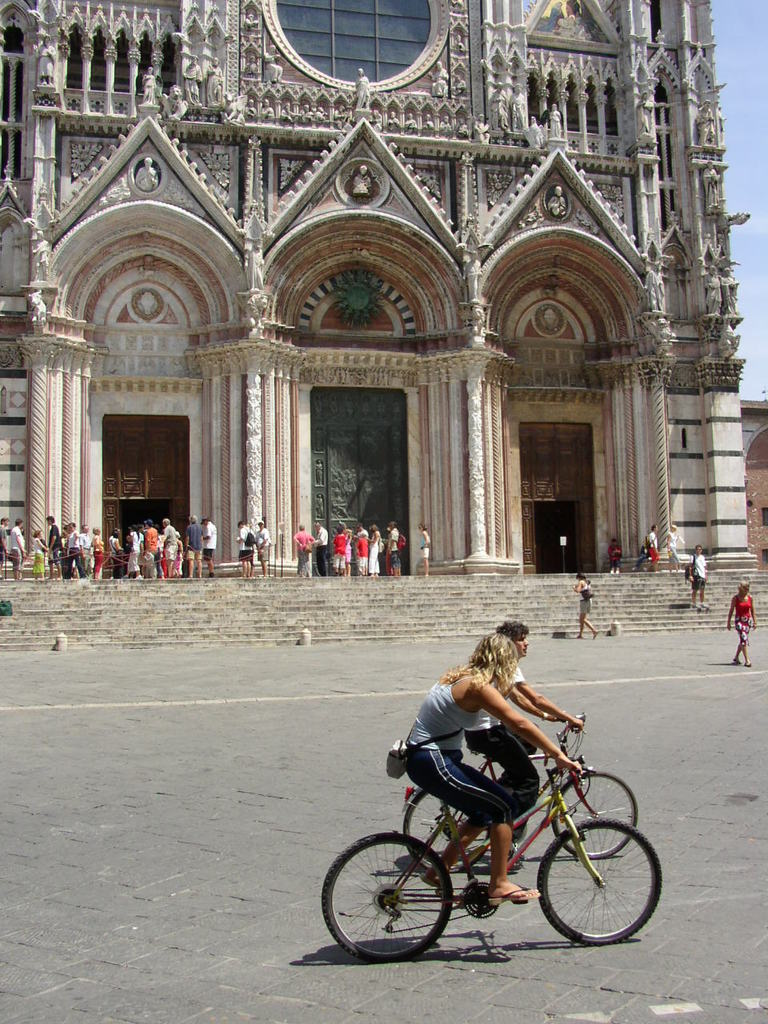Bike: (351, 751, 676, 979)
